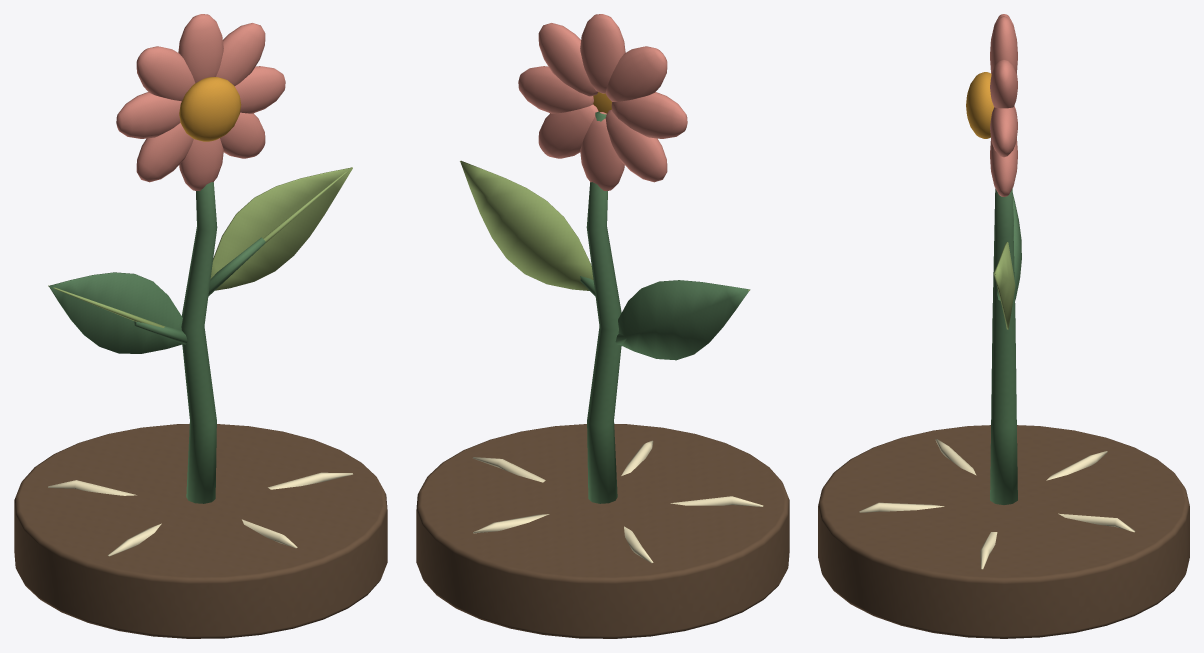
Rendered from plant_study.glb.
3 views of the same model, side by side, from view 1: azimuth 30°, elevation 25°; view 2: azimuth 150°, elevation 25°; view 3: azimuth 270°, elevation 25° (orthographic).
Parts seen in each view (by area): view 1: SoilSection, PlantStem, PlantLeafRight, PlantLeafLeft, PlantFlowerCentre, PlantPetal.003, PlantPetal.004, PlantPetal.002, PlantPetal.005, PlantPetal.001, PlantPetal, PlantPetal.006 (+4 smaller); view 2: SoilSection, PlantLeafRight, PlantStem, PlantLeafLeft, PlantPetal.003, PlantPetal.004, PlantPetal.002, PlantPetal.005, PlantPetal.001, PlantPetal, PlantPetal.007, PlantPetal.006 (+2 smaller); view 3: SoilSection, PlantStem, PlantFlowerCentre, PlantPetal, PlantPetal.001, PlantPetal.002, PlantLeafRight, PlantPetal.007, PlantLeafLeft, PlantRoot.001.
Part boxes in pixels (x1,y1,x2,y2): SoilSection: [14, 424, 387, 638]; PlantStem: [181, 182, 217, 503]; PlantLeafRight: [210, 167, 352, 290]; PlantLeafLeft: [49, 272, 183, 353]; PlantFlowerCentre: [179, 77, 241, 141]; PlantPetal.003: [136, 46, 195, 101]; PlantPetal.004: [116, 92, 181, 138]; PlantPetal.002: [178, 14, 223, 82]; PlantPetal.005: [136, 123, 193, 182]; PlantPetal.001: [216, 23, 265, 85]; PlantPetal: [235, 66, 285, 113]; PlantPetal.006: [179, 138, 223, 190]; SoilSection: [416, 424, 789, 638]; PlantLeafRight: [461, 160, 593, 290]; PlantStem: [586, 111, 621, 503]; PlantLeafLeft: [618, 280, 750, 360]; PlantPetal.003: [605, 46, 667, 101]; PlantPetal.004: [611, 92, 687, 138]; PlantPetal.002: [580, 14, 625, 93]; PlantPetal.005: [605, 109, 667, 182]; PlantPetal.001: [538, 23, 597, 96]; PlantPetal: [518, 66, 593, 113]; PlantPetal.007: [538, 104, 598, 158]; PlantPetal.006: [580, 112, 624, 190]; SoilSection: [818, 425, 1189, 638]; PlantStem: [990, 188, 1017, 504]; PlantFlowerCentre: [966, 72, 994, 138]; PlantPetal: [990, 107, 1017, 157]; PlantPetal.001: [990, 59, 1017, 108]; PlantPetal.002: [990, 16, 1017, 73]; PlantLeafRight: [993, 242, 1015, 329]; PlantPetal.007: [990, 139, 1017, 196]; PlantLeafLeft: [1013, 194, 1021, 300]; PlantRoot.001: [859, 502, 944, 512].
Bounding box in the file's own units: 1.32 × 2.14 × 1.32.
Materials: 1 (1 with a texture image).
